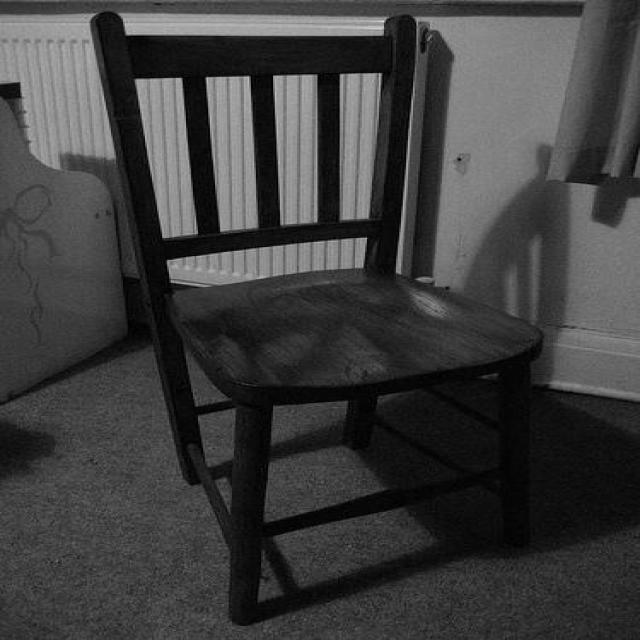chair: (84, 6, 560, 622)
